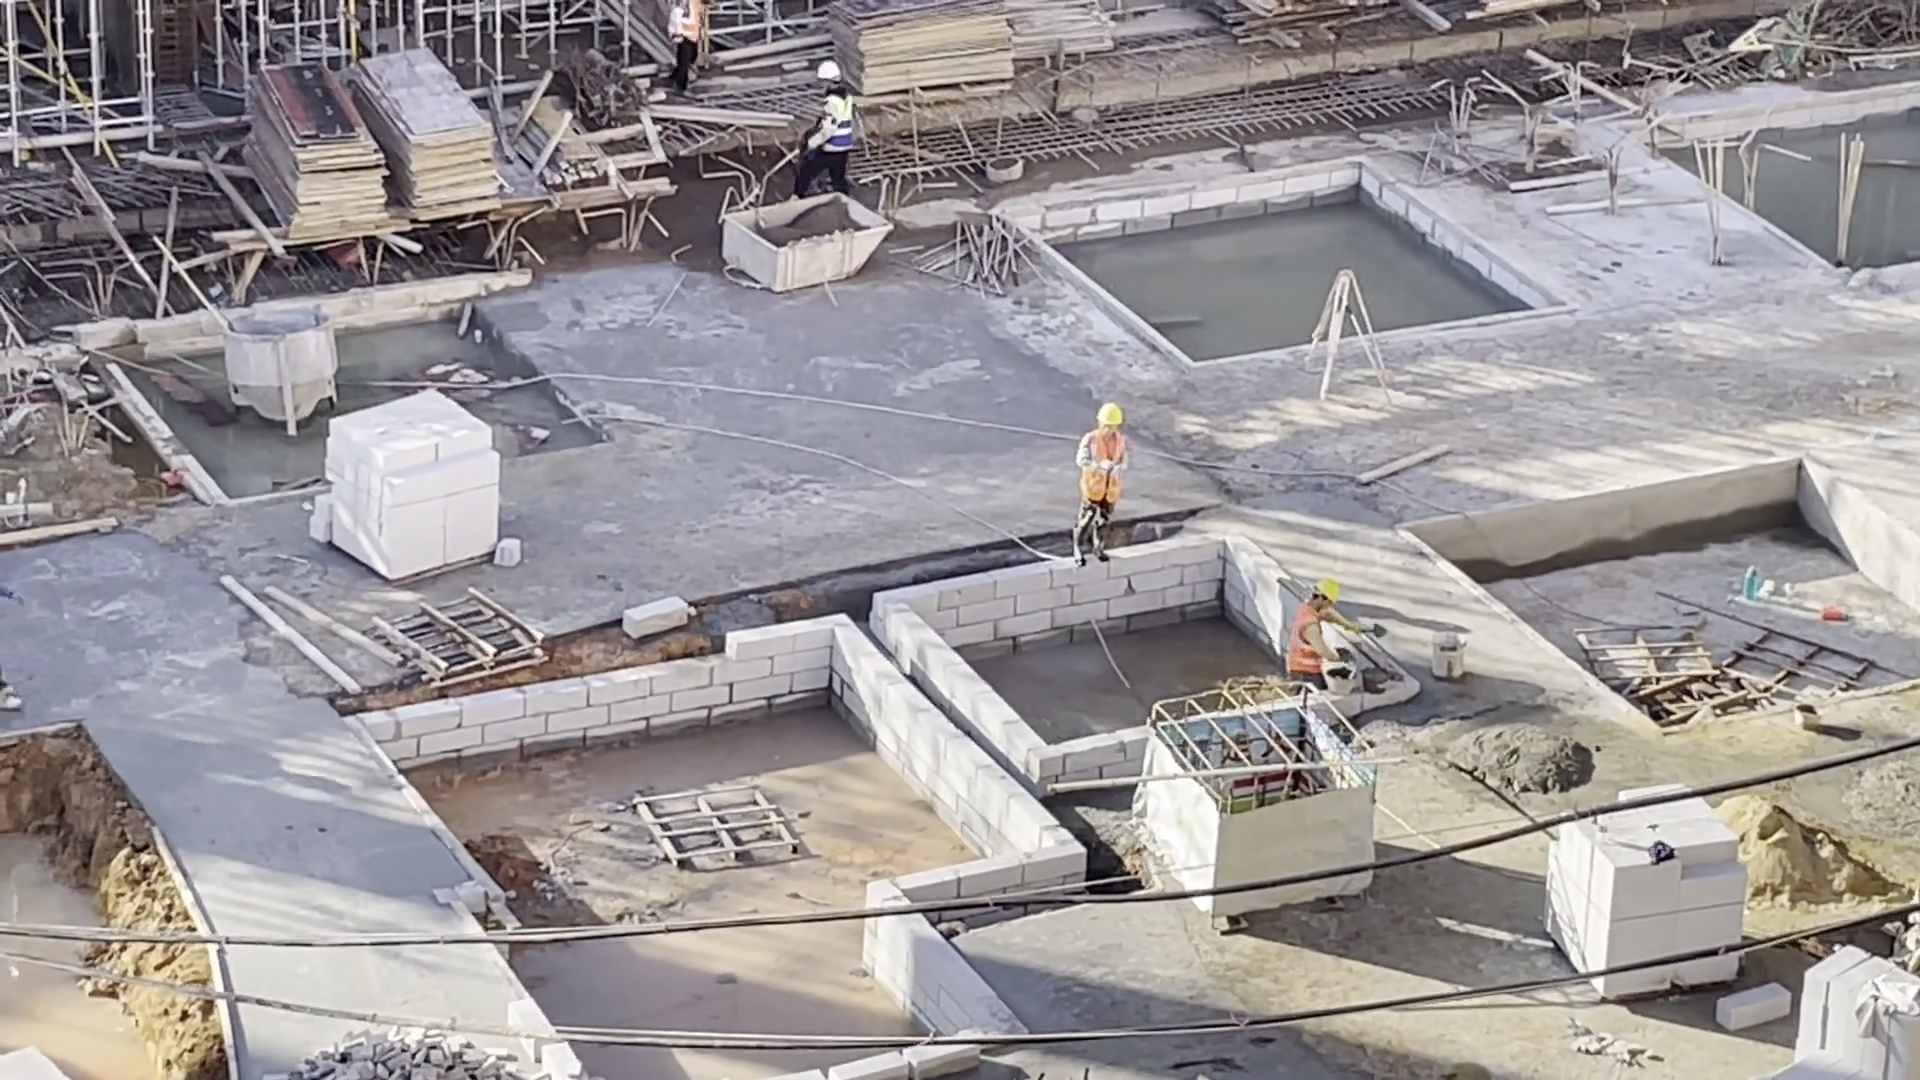helmet: (1095, 402, 1126, 429), (1313, 577, 1341, 603), (813, 60, 845, 82)
person: (1072, 401, 1130, 566), (1288, 575, 1364, 683), (795, 60, 854, 197), (667, 2, 710, 101)
vest: (1080, 428, 1127, 508), (1291, 604, 1330, 673), (820, 92, 852, 151), (672, 2, 707, 48)
